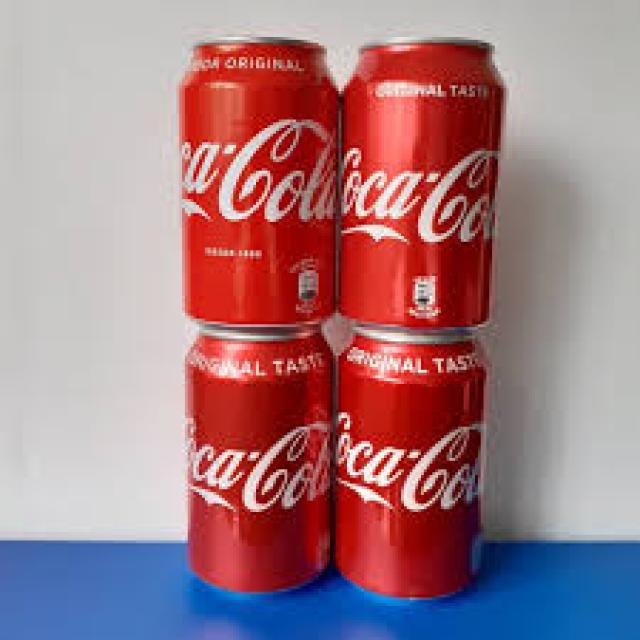Coca-Cola: (168, 25, 340, 335), (339, 28, 503, 334), (329, 322, 497, 606), (168, 328, 336, 598)
